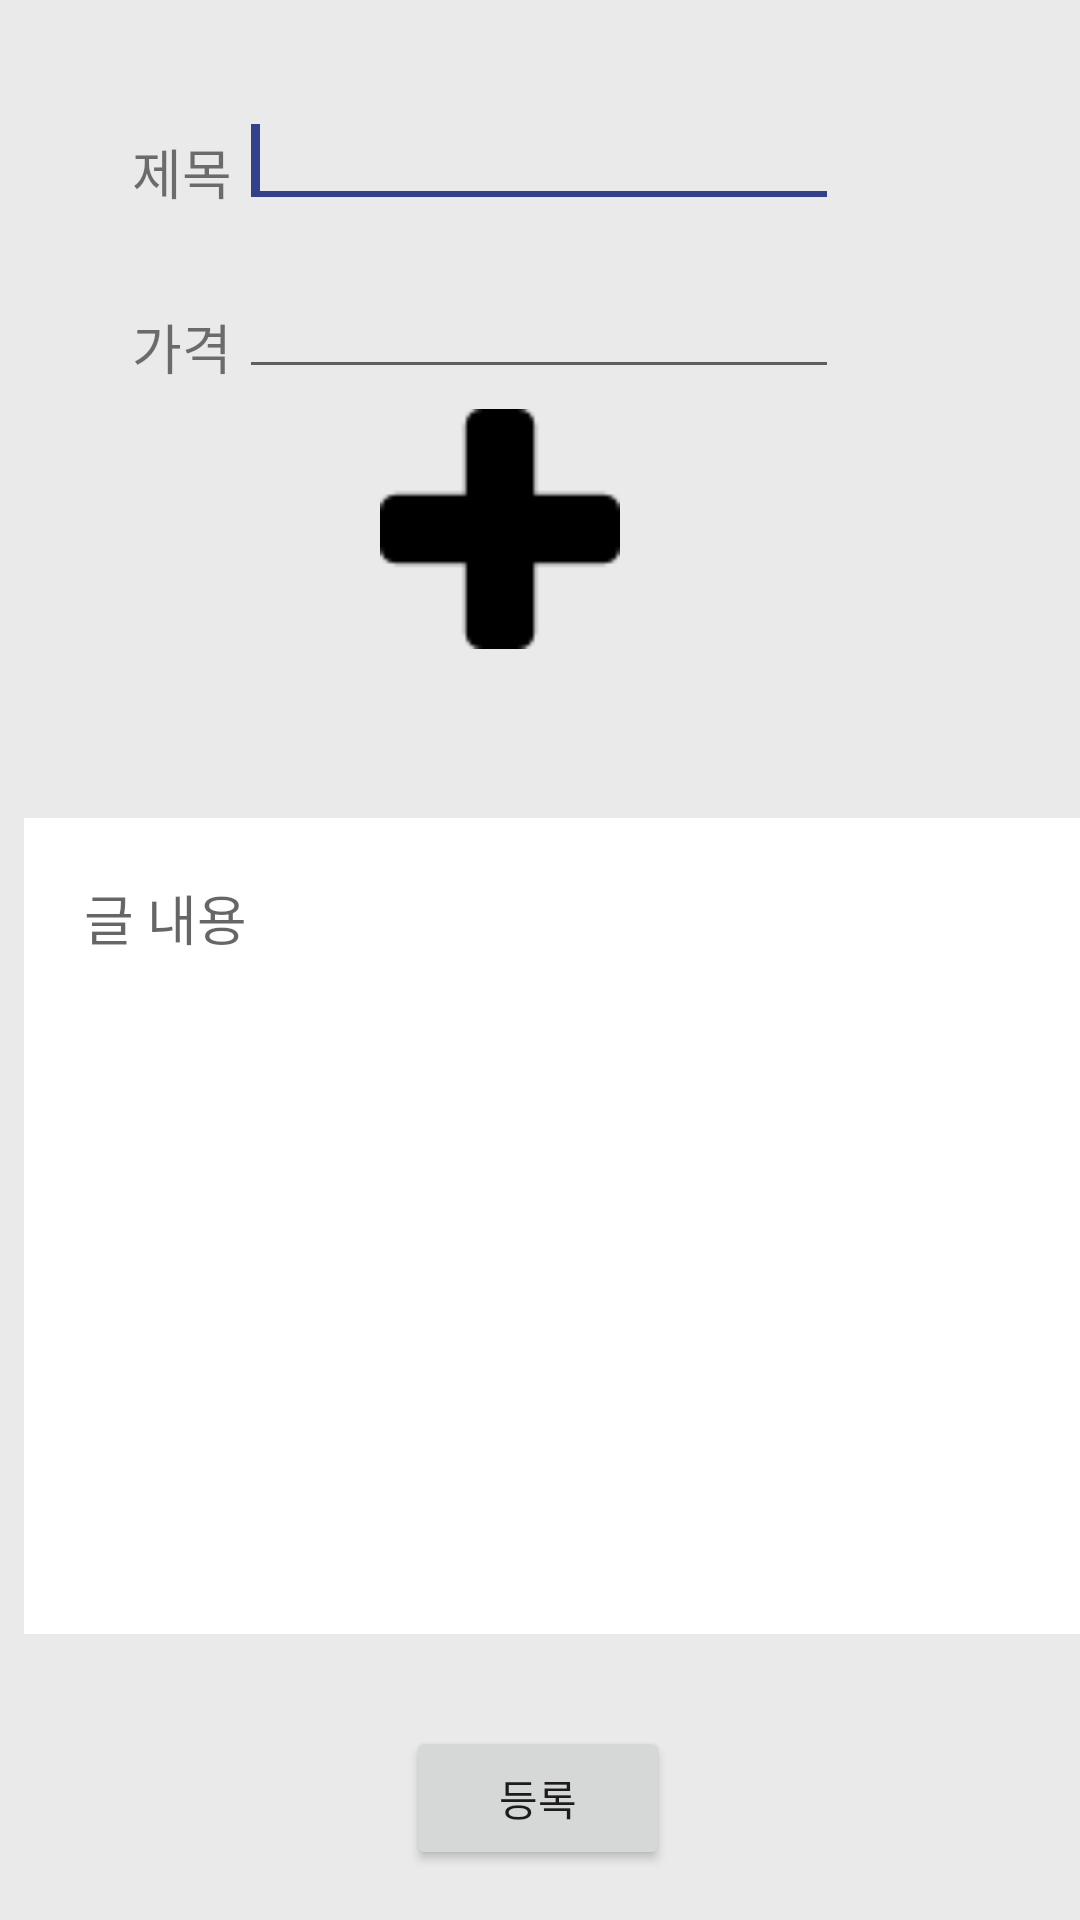

Screen size 1080px x 1920px. Icon name, then its box in pixels as (x1, y1, x2, y2):
plus: (380, 409, 620, 649)
